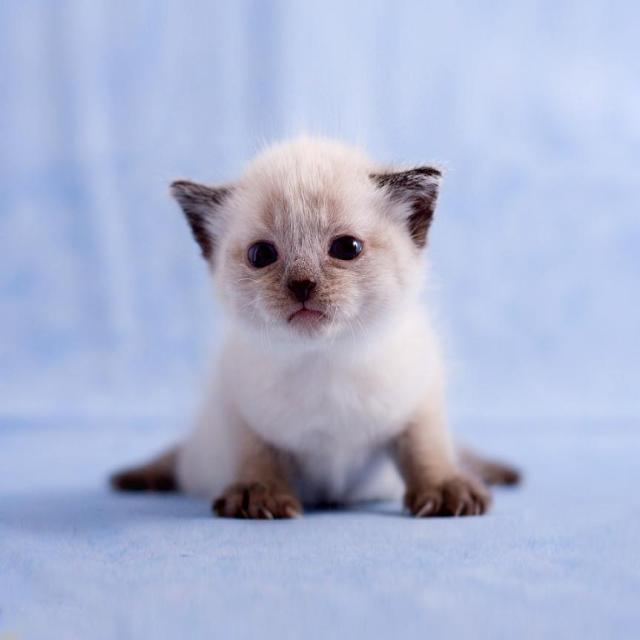Cat: (105, 118, 524, 518)
